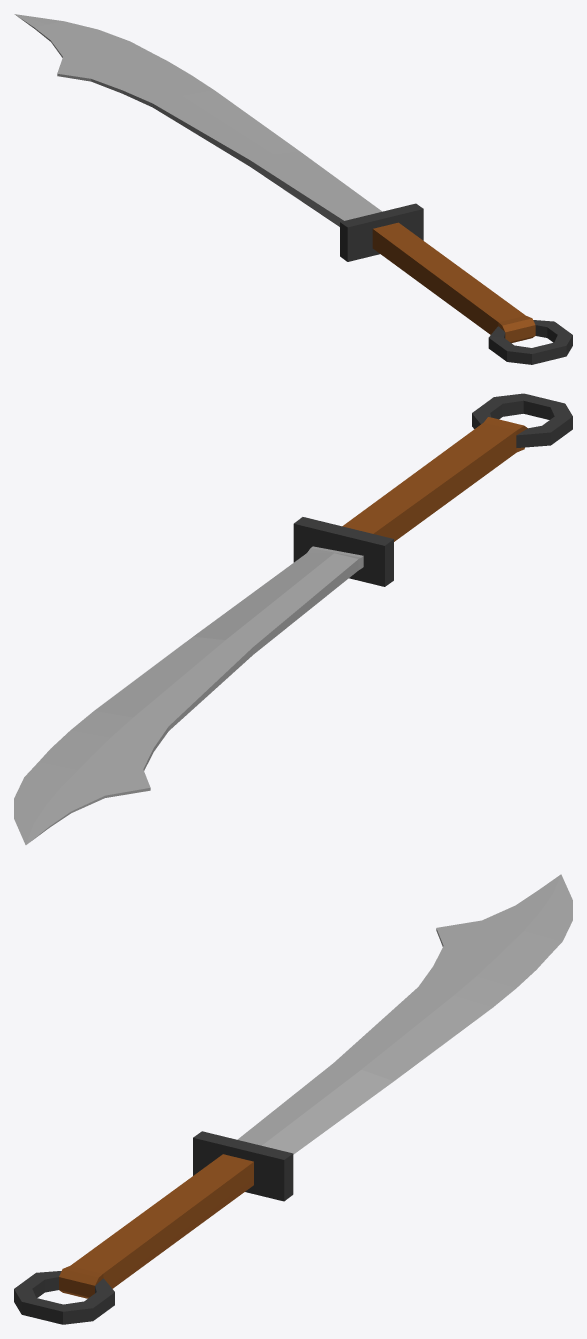
The model's file is Dakandao - Textured Low Poly Asian Weapon Pack by Kickin It Studios.fbx.
The picture shows the model from 3 angles, top to bottom: view 1: azimuth 30°, elevation 25°; view 2: azimuth 150°, elevation 25°; view 3: azimuth 330°, elevation 25°; orthographic projection. The views are drawn at different scales.
Visible parts, largest first — view 1: Dakandao; view 2: Dakandao; view 3: Dakandao.
Boxes of the visible parts, box(x1,y1,x2,y2) form: Dakandao: box(14, 14, 572, 364); Dakandao: box(14, 393, 572, 844); Dakandao: box(14, 874, 572, 1324).
Size of the model in its own units: 103 by 28.39 by 719.
